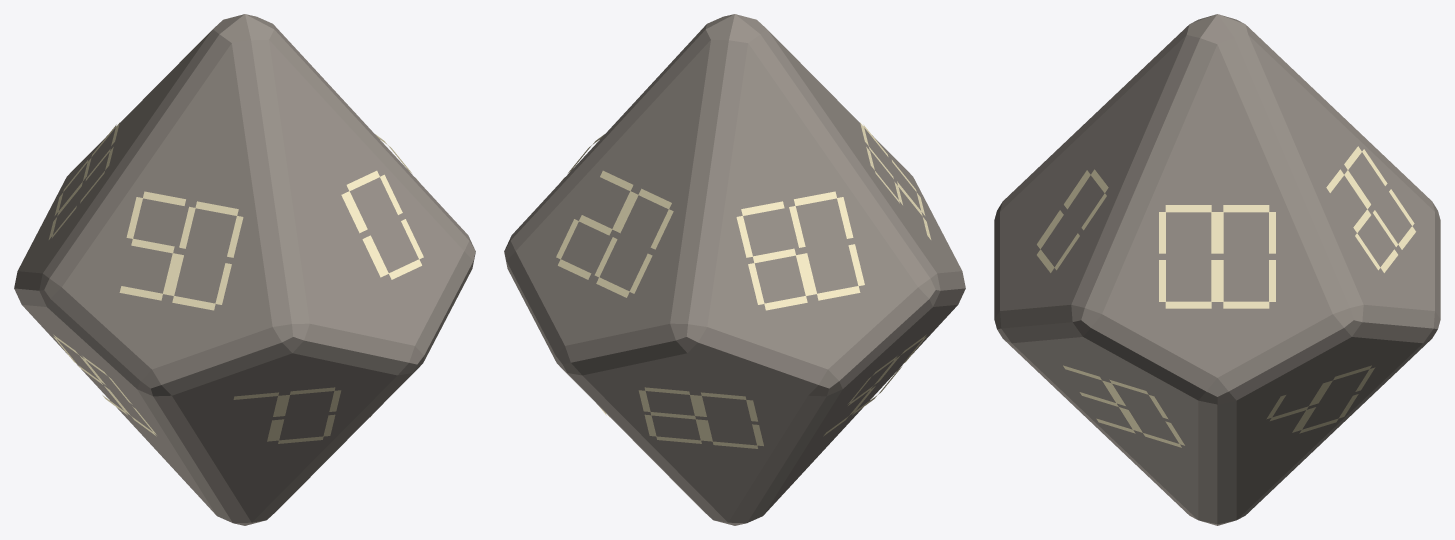
Rendered from d_percentile.glb.
3 renders of one model, left to right at view 1: azimuth 30°, elevation 25°; view 2: azimuth 150°, elevation 25°; view 3: azimuth 270°, elevation 25°, orthographic.
Visible parts, largest first — view 1: RenderMesh, GlyphMesh; view 2: RenderMesh, GlyphMesh; view 3: RenderMesh, GlyphMesh.
Part boxes in pixels (<box>): RenderMesh: <box>14,14,475,525</box>; GlyphMesh: <box>48,122,423,443</box>; RenderMesh: <box>504,14,965,525</box>; GlyphMesh: <box>556,122,931,448</box>; RenderMesh: <box>994,14,1440,525</box>; GlyphMesh: <box>1037,146,1415,447</box>.
Size of what is drawn, in the model's own units: 0.0271 by 0.033 by 0.0261.
